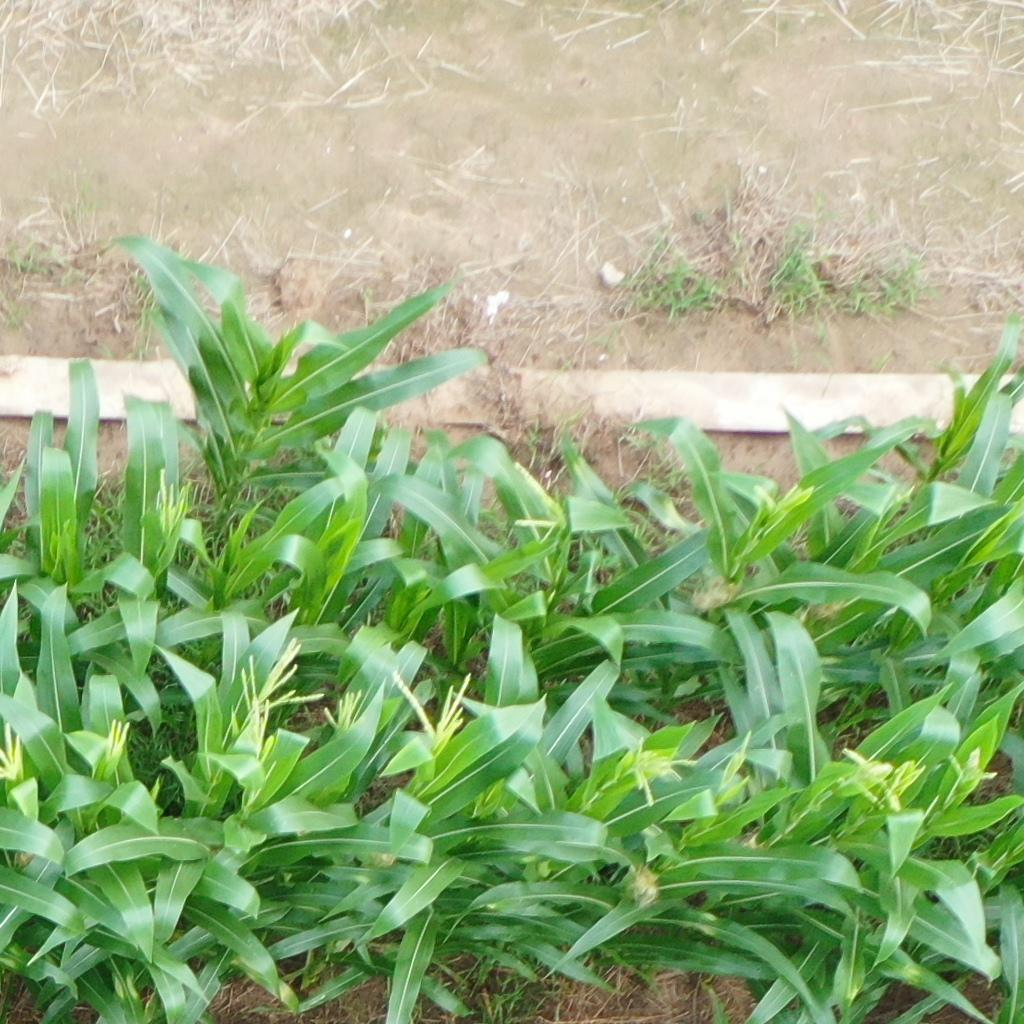Tassel: (226, 635, 322, 756), (386, 669, 474, 754), (507, 454, 574, 551), (839, 746, 923, 814), (617, 736, 702, 801), (744, 477, 806, 528), (721, 725, 759, 799), (158, 464, 187, 538), (93, 715, 134, 766), (949, 746, 1000, 785), (1, 724, 29, 784), (325, 690, 365, 731)
